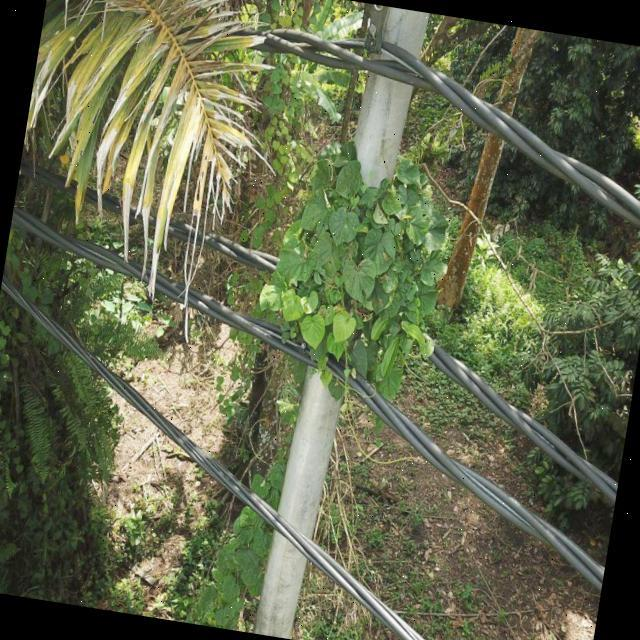critical vegetation: (242, 112, 474, 426)
